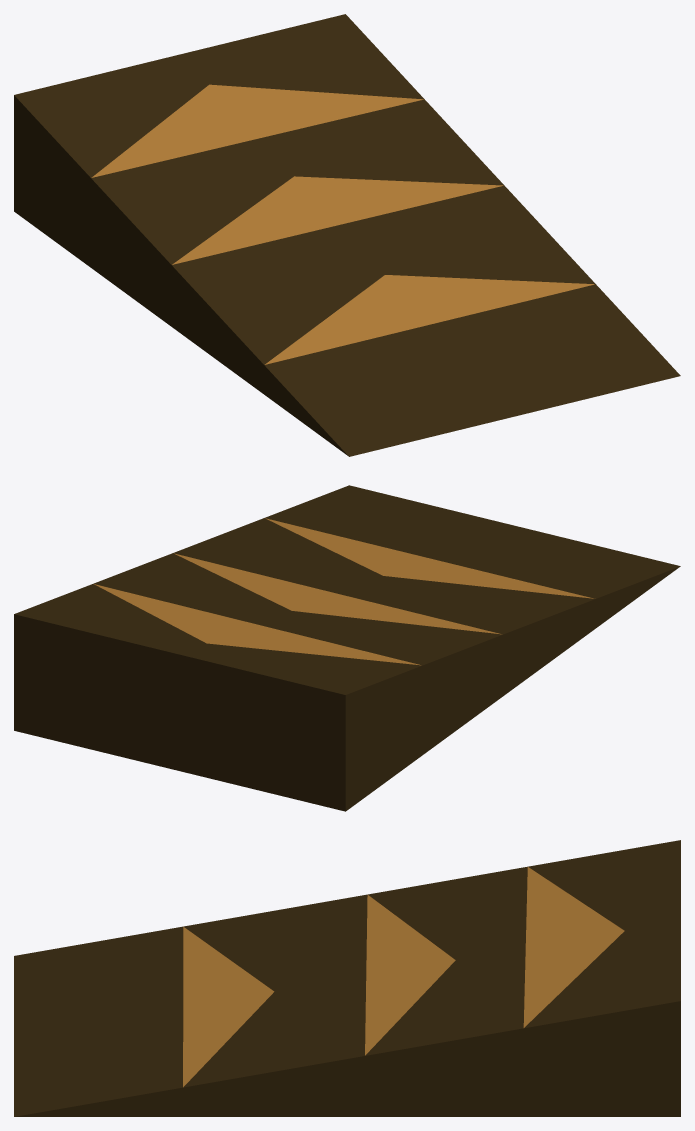
Rendered from Accelerator.fbx.
3 renders of one model, top to bottom at view 1: azimuth 30°, elevation 25°; view 2: azimuth 150°, elevation 25°; view 3: azimuth 270°, elevation 25°, orthographic.
Visible parts, largest first — view 1: 立方体; view 2: 立方体; view 3: 立方体.
Boxes of the visible parts, box(x1,y1,x2,y2) form: 立方体: box(14, 14, 680, 456); 立方体: box(14, 485, 680, 811); 立方体: box(14, 840, 680, 1116).
Bounding box in the file's own units: 269 × 90.37 × 471.
